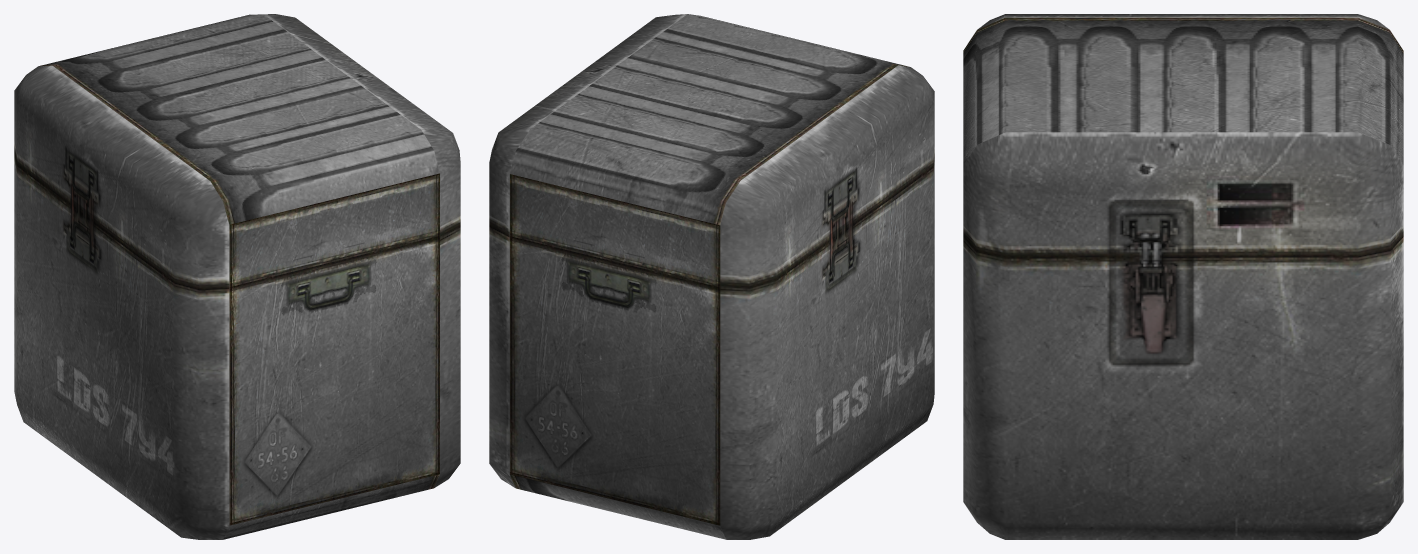
The model's file is Model_Crate_04.fbx.
3 views of the same model, side by side, from view 1: azimuth 30°, elevation 25°; view 2: azimuth 150°, elevation 25°; view 3: azimuth 270°, elevation 25° (orthographic). The views are drawn at different scales.
Parts seen in each view (by area): view 1: Crate_04_LOD0; view 2: Crate_04_LOD0; view 3: Crate_04_LOD0.
Boxes of the visible parts, x1,y1,x2,y2 form: Crate_04_LOD0: [14, 14, 460, 539]; Crate_04_LOD0: [489, 14, 934, 539]; Crate_04_LOD0: [963, 14, 1403, 539].
Size of what is drawn, in the model's own units: 100 by 120 by 120.
